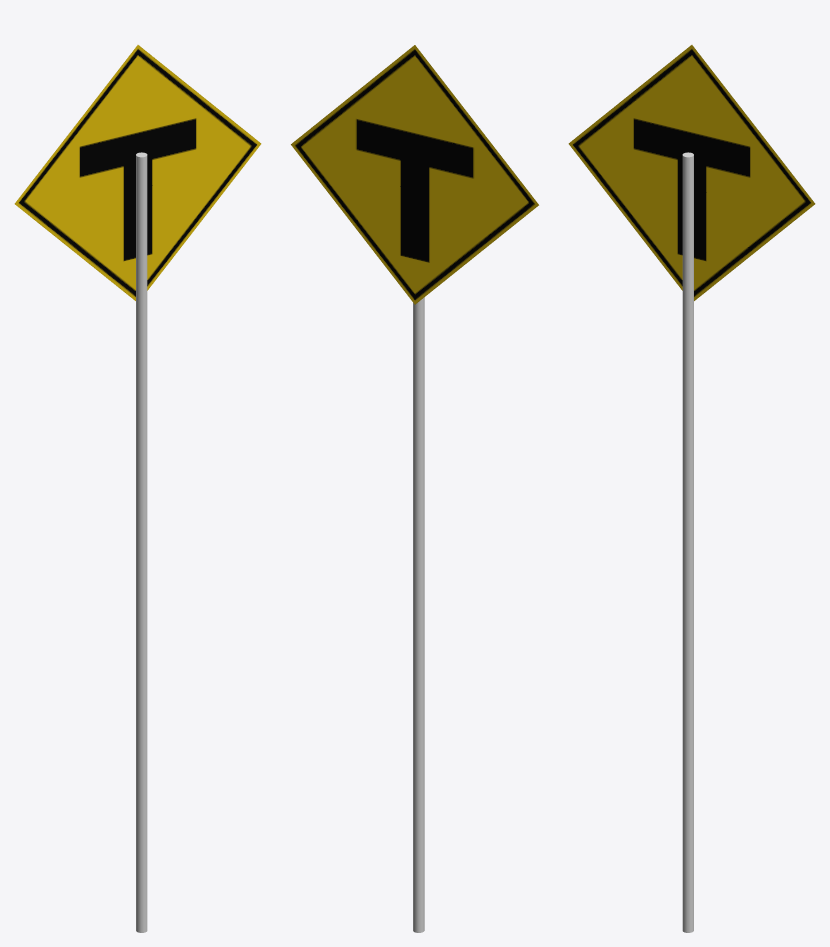
The model's file is simpang 3.fbx.
3 views of the same model, side by side, from view 1: azimuth 30°, elevation 25°; view 2: azimuth 150°, elevation 25°; view 3: azimuth 330°, elevation 25° (orthographic).
Visible parts, largest first — view 1: Plane, Cylinder; view 2: Plane, Cylinder; view 3: Plane, Cylinder.
Part boxes in pixels (x1,y1,x2,y2): Plane: (14,45,261,300); Cylinder: (136,152,147,932); Plane: (291,45,538,304); Cylinder: (413,297,424,932); Plane: (568,45,815,300); Cylinder: (682,152,693,932).
Size of the model in its own units: 200 by 682 by 9.27.
